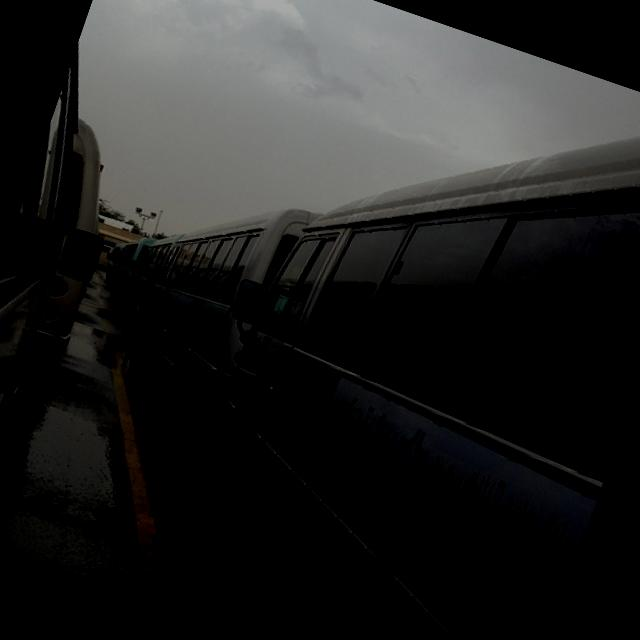Vehicle: (148, 0, 640, 640), (0, 0, 186, 540), (98, 164, 321, 438), (1, 120, 142, 384), (98, 228, 151, 308), (95, 242, 116, 270)
